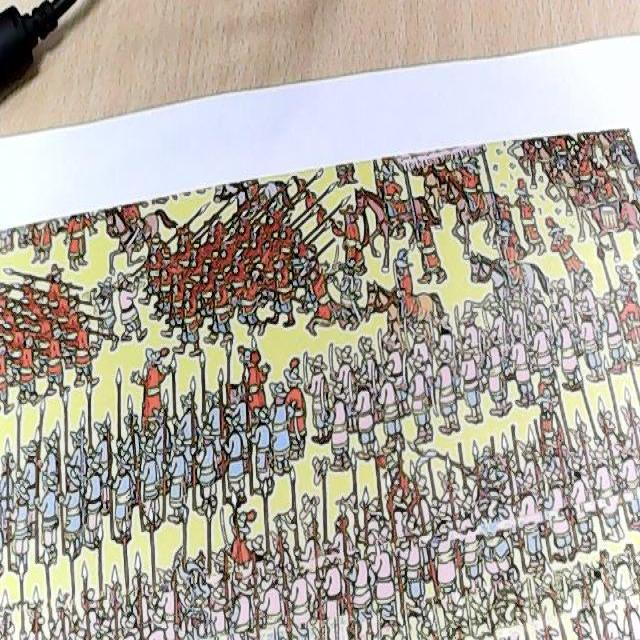waldo: (224, 382, 242, 406)
